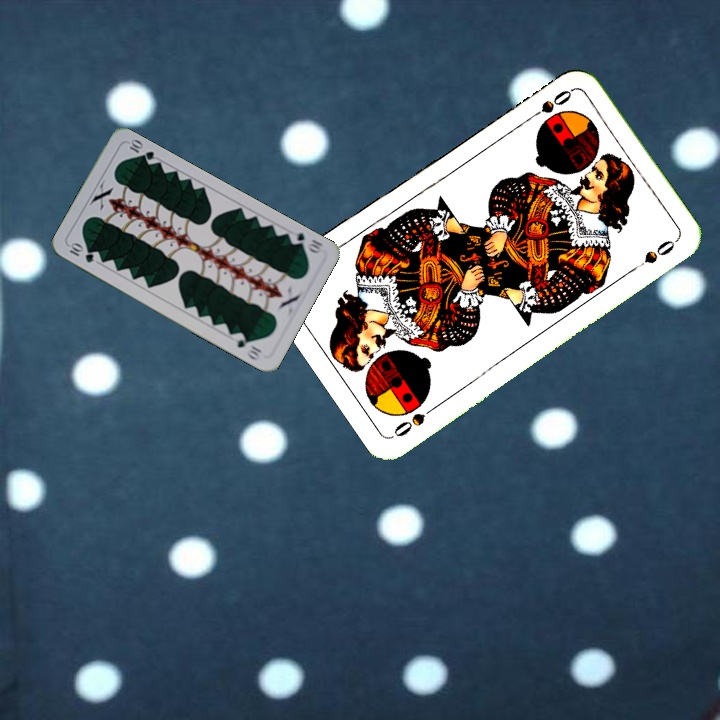G10: (285, 227, 325, 257), (65, 239, 97, 266)
SO: (522, 85, 575, 124), (388, 401, 440, 440)
